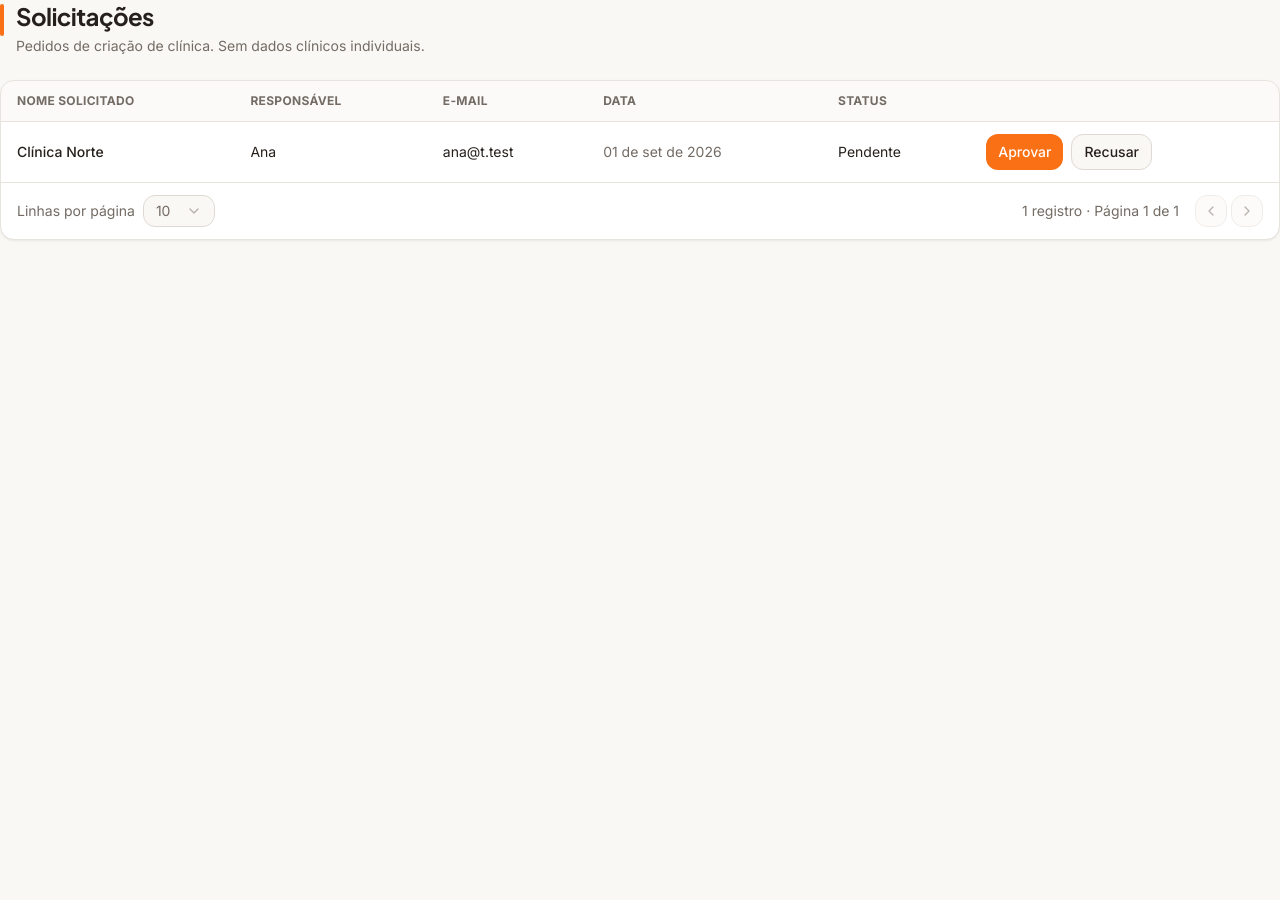
PlatformRequestsPage › lista pedido e abre confirmação de aprovar
Expected: the text "Clínica Norte" is shown, [17,143,104,160]
Expected: the text "Ana" is shown, [234,122,427,182]
Click the button "Aprovar" at (1025, 152), box [986,134,1064,170]
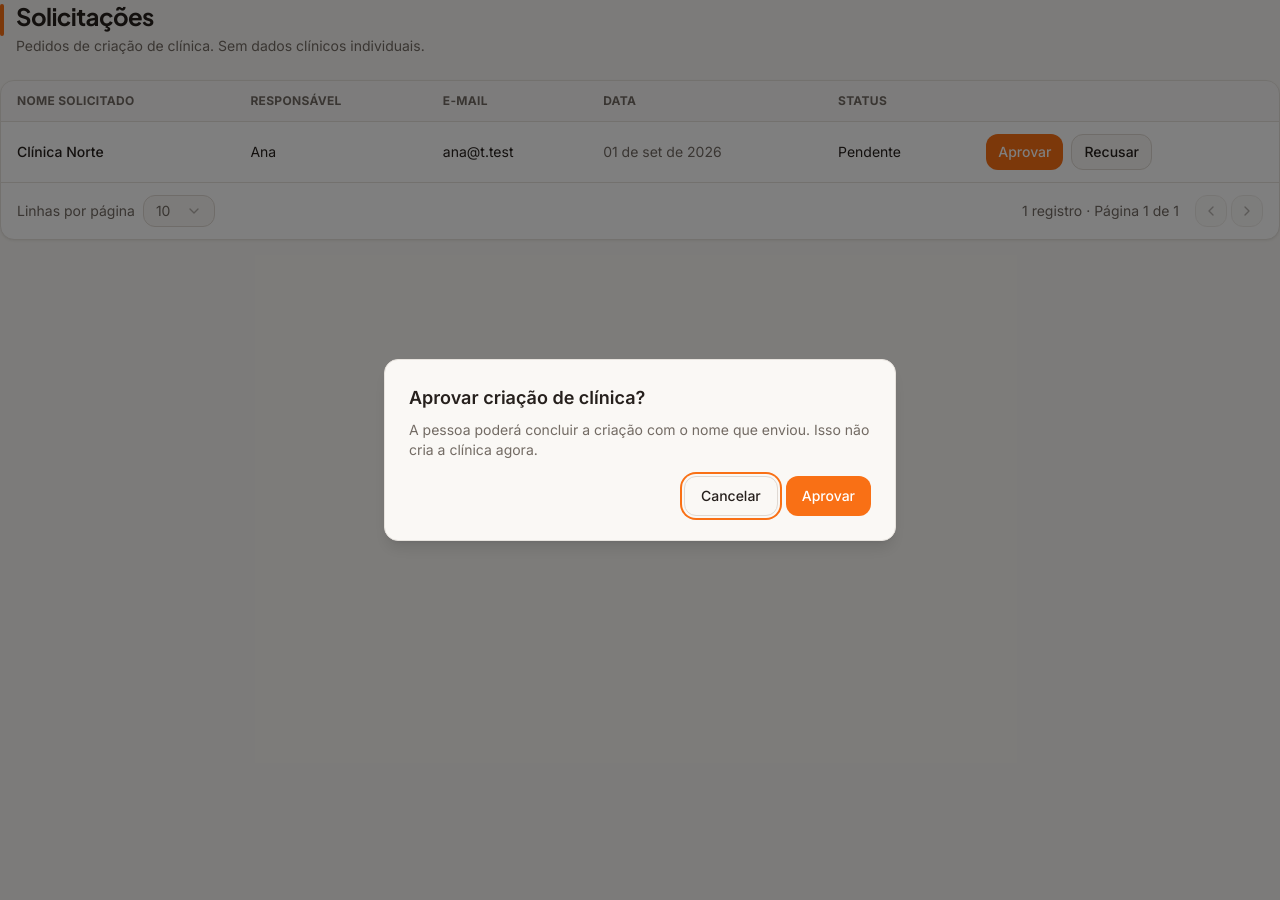
Expected: the heading "Aprovar criação de clínica?" is shown, [409,387,645,408]
